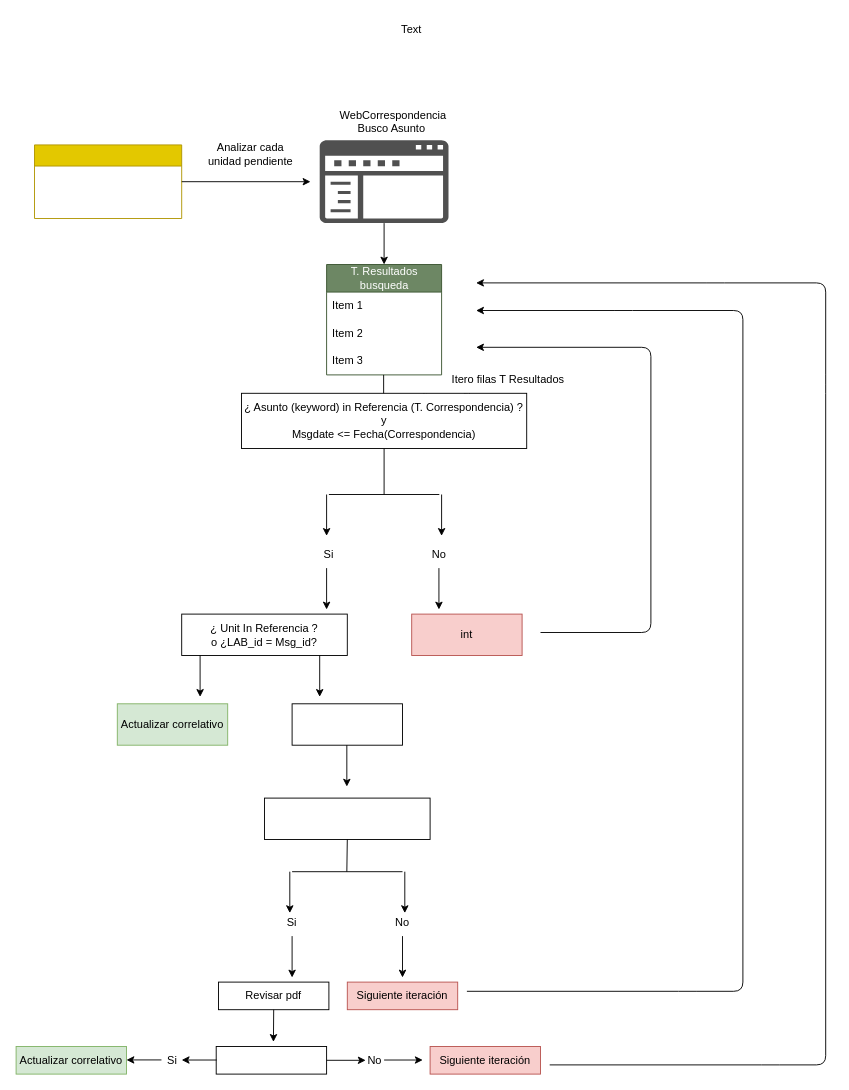
The diagram is 849 pixels wide and 1090 high, and some of its shapes have lost their labels. Each missing label, with the centre of its shape:
Entrar a pagina: the point at 346,724
T.Pendientes: the point at 108,181
¿ Contiene la misma unidad?: the point at 271,1060
¿Fue enviada por el mismo empleado ?: the point at 347,818
